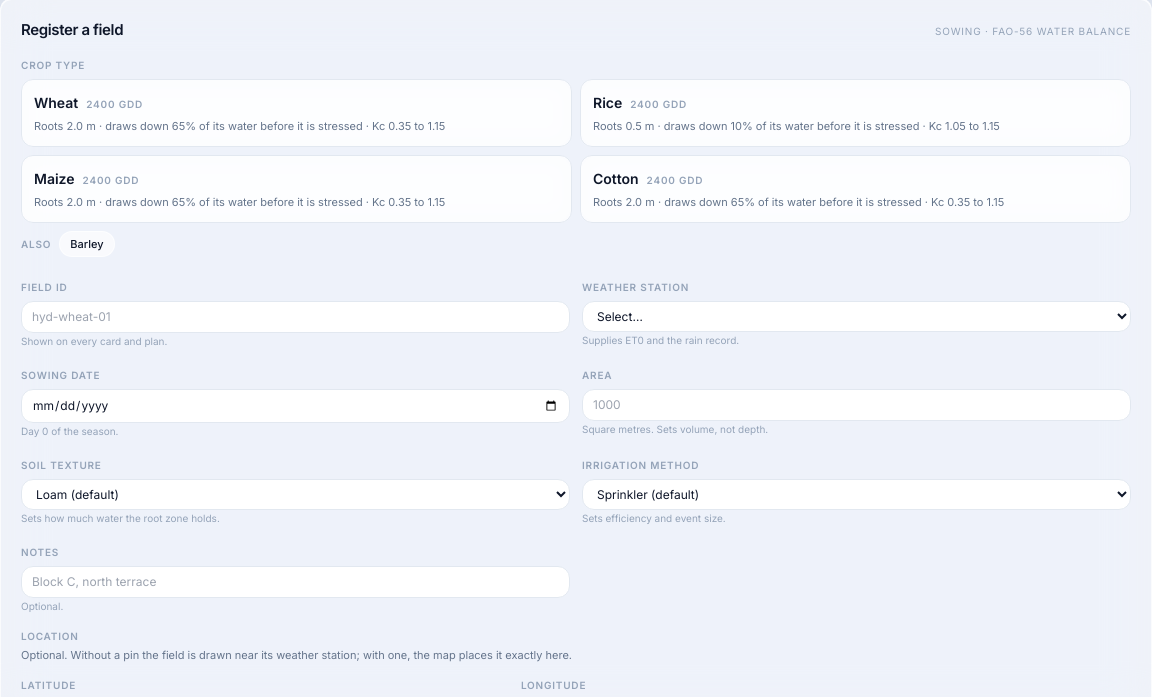
Scenario: AddField › warns before committing a crop and method pairing the engine dislikes
Click the button that starts with "Rice": {"x": 609, "y": 126} [580,78,1131,147]
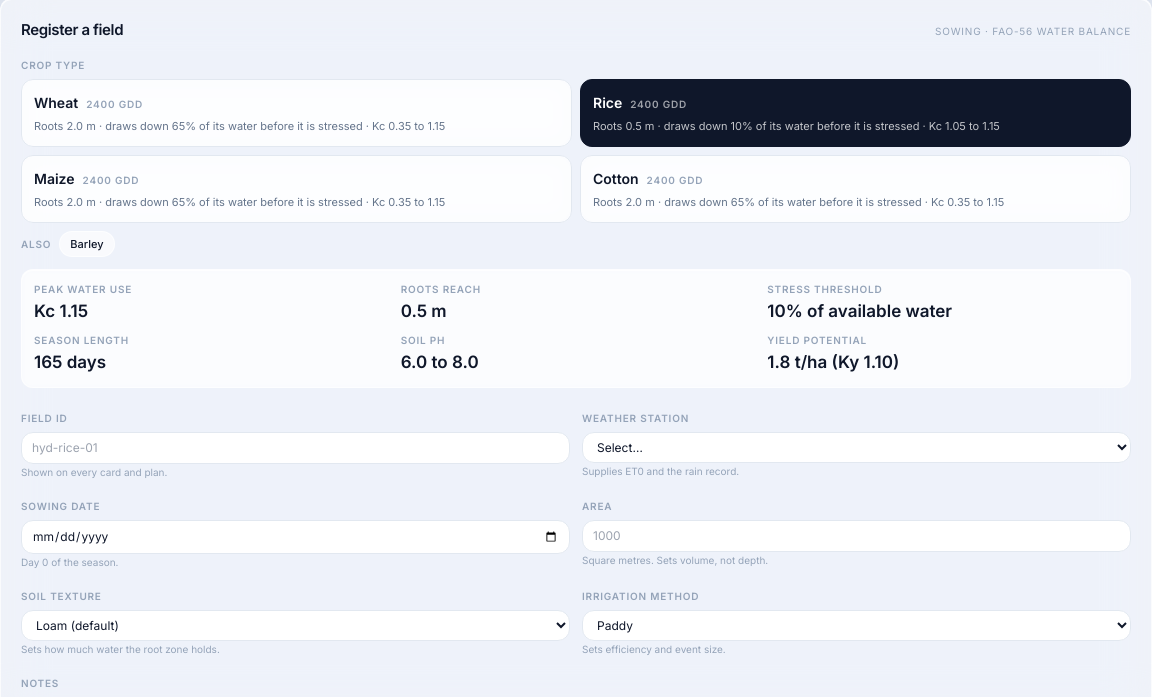
Expected: the text "maintained pond depth" is not shown
Expected: the dropdown labelled "Irrigation method Sets efficiency and event size." shows "Paddy"
Select "Sprinkler — not advised" in the dropdown labelled "Irrigation method Sets efficiency and event size.": {"x": 856, "y": 625} [582,610,1131,641]
(page scrolled)
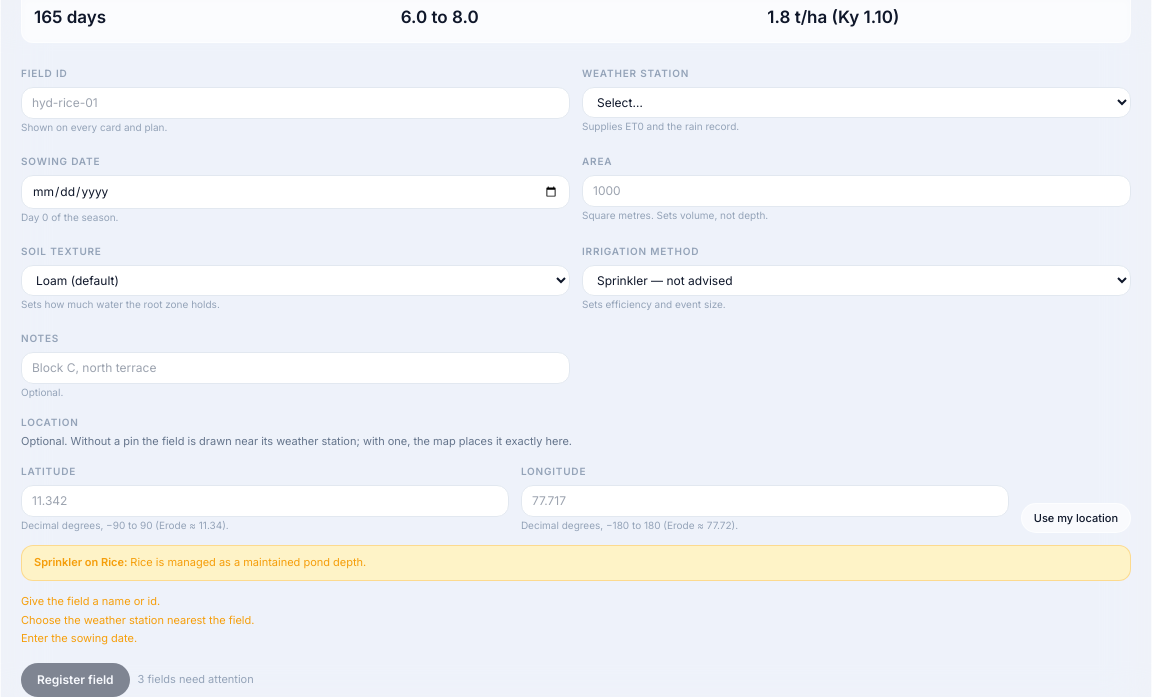
Expected: the text "Sprinkler on Rice: Rice is managed as a maintained pond depth." is shown, [21,545,1131,581]
